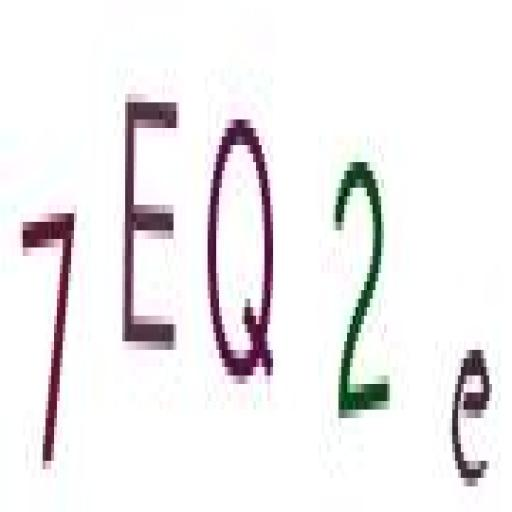2: (328, 139, 394, 429)
7: (18, 197, 79, 478)
E: (122, 81, 180, 365)
Q: (204, 112, 278, 398)
e: (448, 333, 495, 499)
